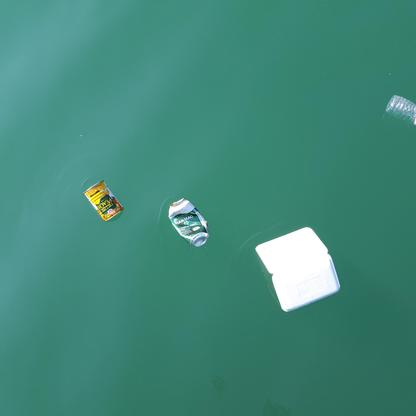can: (165, 196, 210, 247), (82, 181, 124, 221)
foam: (253, 226, 342, 311)
plastic bottle: (385, 94, 416, 124)
